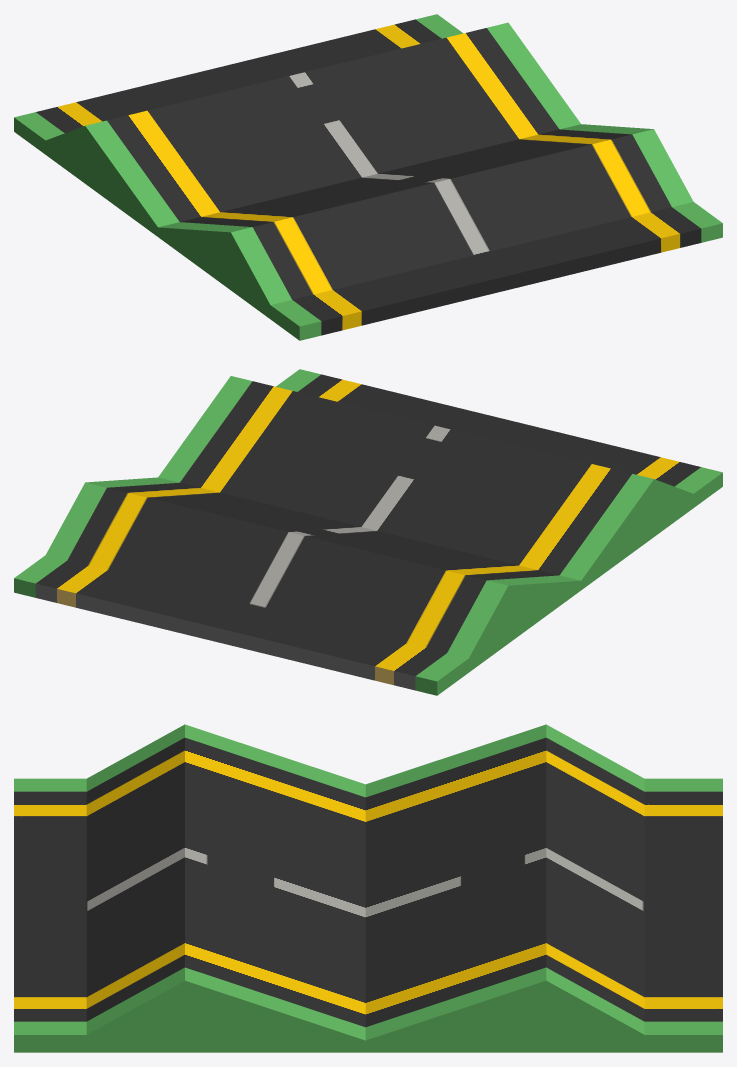
File: pista05.fbx
3 renders of one model, top to bottom at view 1: azimuth 30°, elevation 25°; view 2: azimuth 150°, elevation 25°; view 3: azimuth 270°, elevation 25°, orthographic. The views are drawn at different scales.
Parts seen in each view (by area): view 1: pista05; view 2: pista05; view 3: pista05.
Part boxes in pixels (x1,y1,x2,y2): pista05: (14,14,722,340); pista05: (14,369,722,695); pista05: (14,724,722,1052).
Bounding box in the file's own units: 2539 × 333 × 2969.
Materials: 1 (1 with a texture image).
